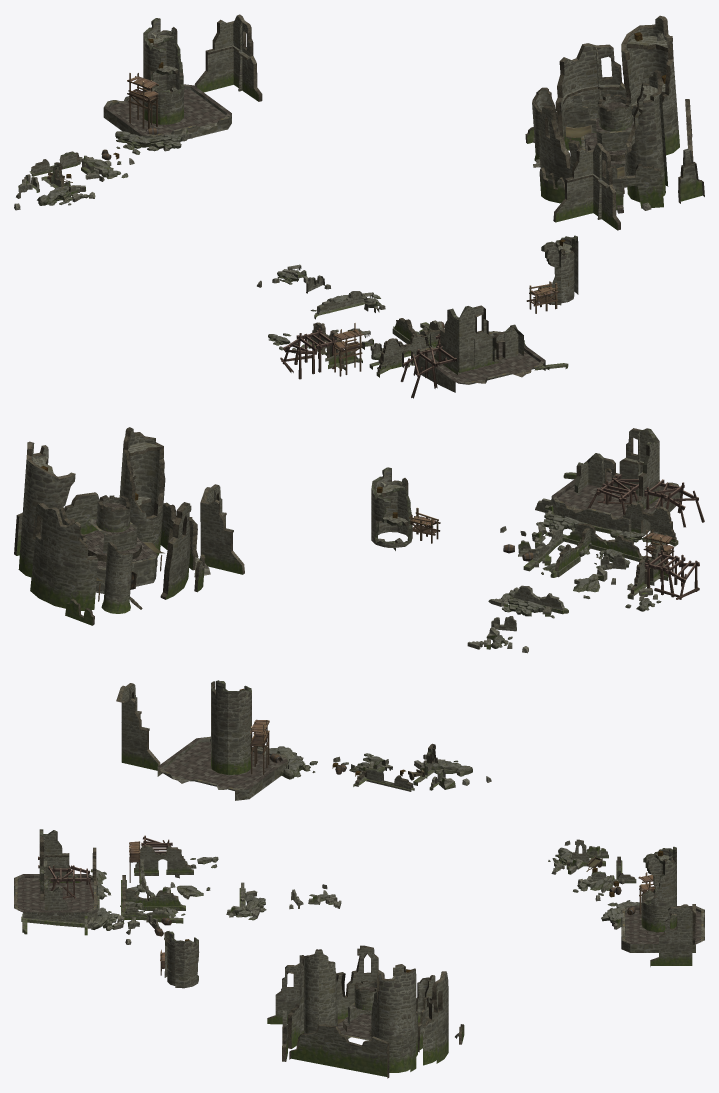
The model's file is srpg_quests_porp01_all.FBX.
3 views of the same model, one above another, from view 1: azimuth 30°, elevation 25°; view 2: azimuth 150°, elevation 25°; view 3: azimuth 270°, elevation 25° (orthographic). The views are drawn at different scales.
Visible parts, largest first — view 1: srpg_quests_porp01_all; view 2: srpg_quests_porp01_all; view 3: srpg_quests_porp01_all.
Boxes of the visible parts, left/top/right/bottom form: srpg_quests_porp01_all: left=14, top=14, right=704, bottom=398; srpg_quests_porp01_all: left=14, top=427, right=704, bottom=800; srpg_quests_porp01_all: left=14, top=829, right=704, bottom=1078.
Bounding box in the file's own units: 84.86 × 19.11 × 102.
